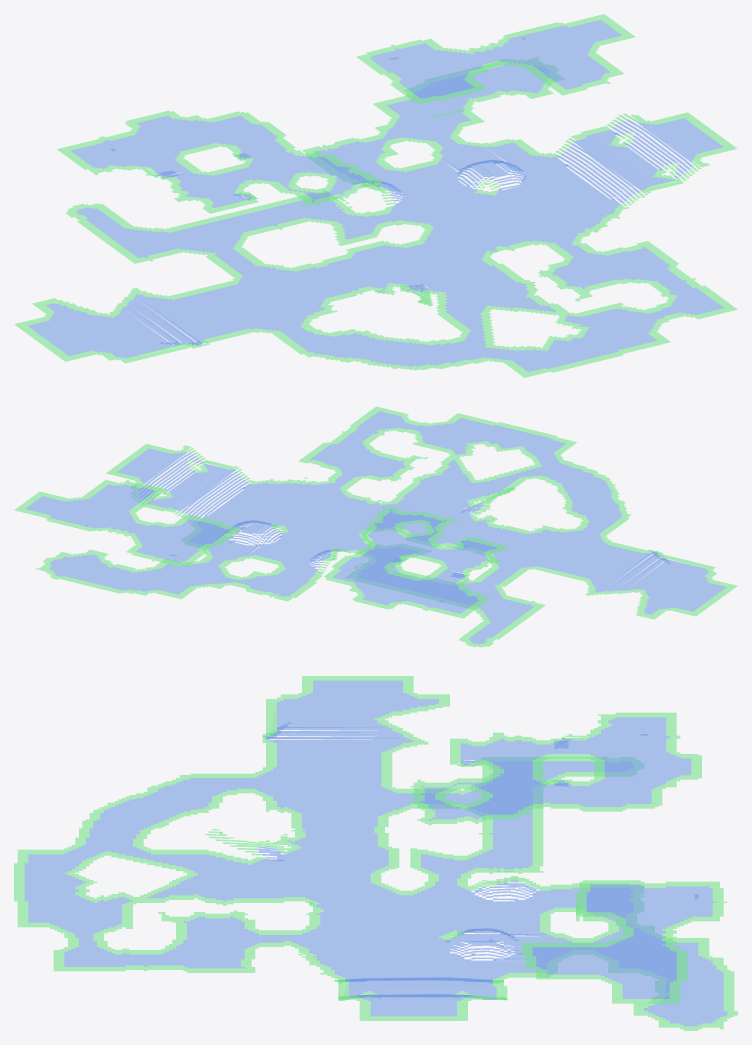
The model's file is bot_nav_escalation_closed.glb.
3 views of the same model, one above another, from view 1: azimuth 30°, elevation 25°; view 2: azimuth 150°, elevation 25°; view 3: azimuth 270°, elevation 25° (orthographic). The views are drawn at different scales.
Visible parts, largest first — view 1: bot_nav_vehicle, bot_nav_robot; view 2: bot_nav_vehicle, bot_nav_robot; view 3: bot_nav_vehicle, bot_nav_robot.
Part boxes in pixels (x1,y1,x2,y2): bot_nav_vehicle: [28, 20, 723, 371]; bot_nav_robot: [14, 14, 737, 377]; bot_nav_vehicle: [26, 411, 726, 644]; bot_nav_robot: [14, 406, 737, 647]; bot_nav_vehicle: [24, 680, 727, 1026]; bot_nav_robot: [14, 676, 737, 1030].
Bounding box in the file's own units: 248 × 15.72 × 201.
